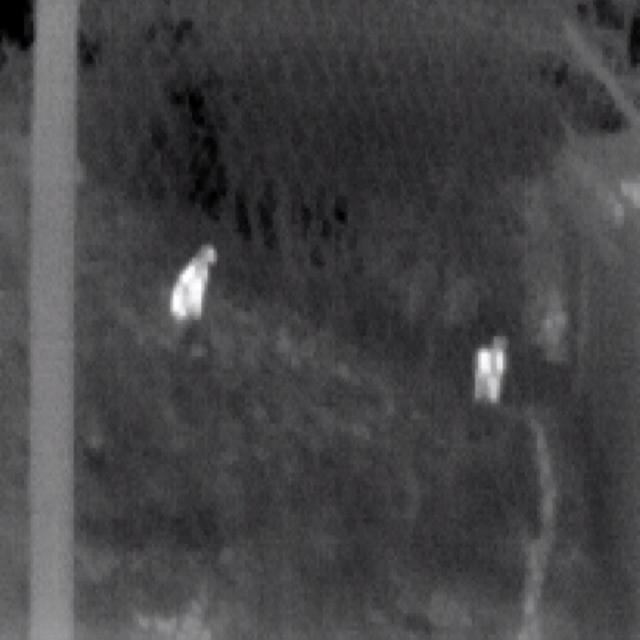cheetah: (172, 247, 217, 316), (473, 336, 509, 401)
